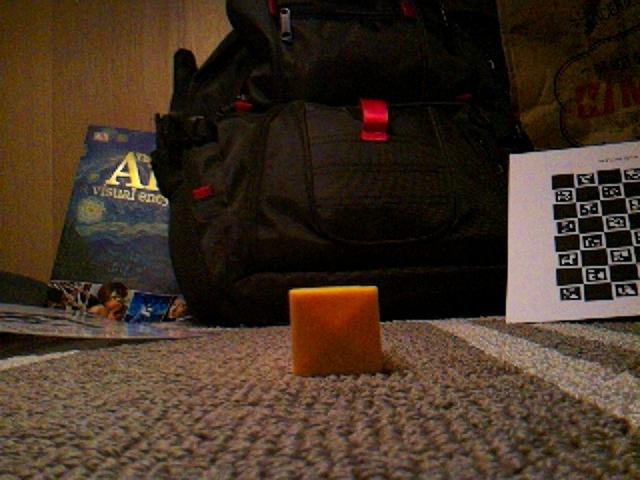yellow: (287, 284, 385, 378)
